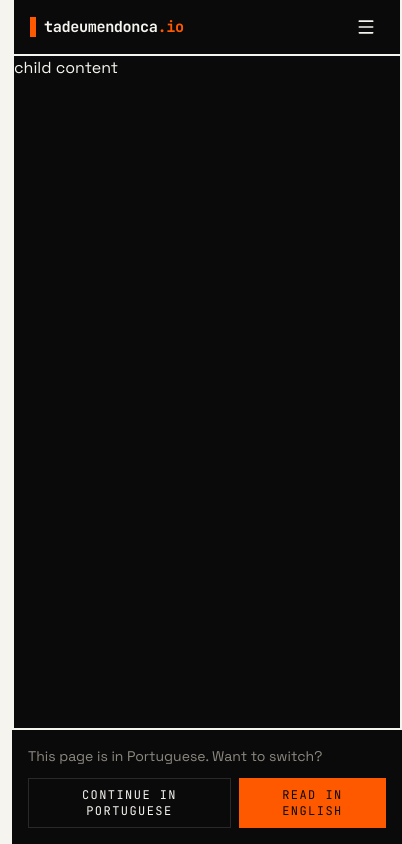
AppShell › borders every nav item, in the desktop bar and in the mobile menu alike
Step 1. Click the button named "Abrir menu" → (366, 27), box [348,9,384,45]
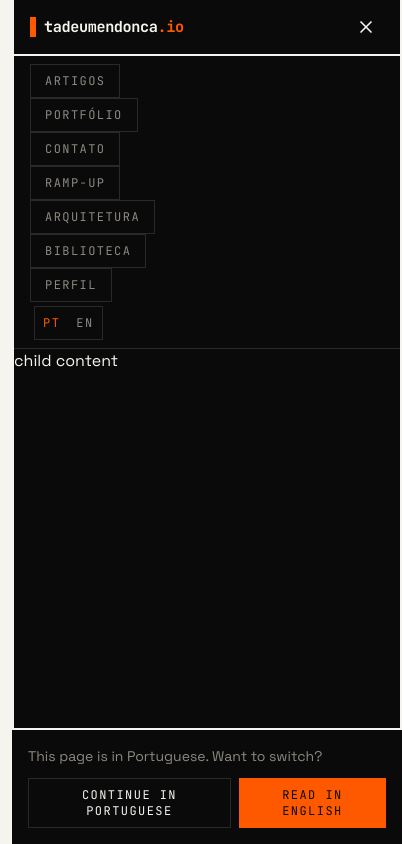
Expected: the number of links "Artigos" is 2
Expected: the number of links "Portfólio" is 2
Expected: the number of links "Contato" is 2
